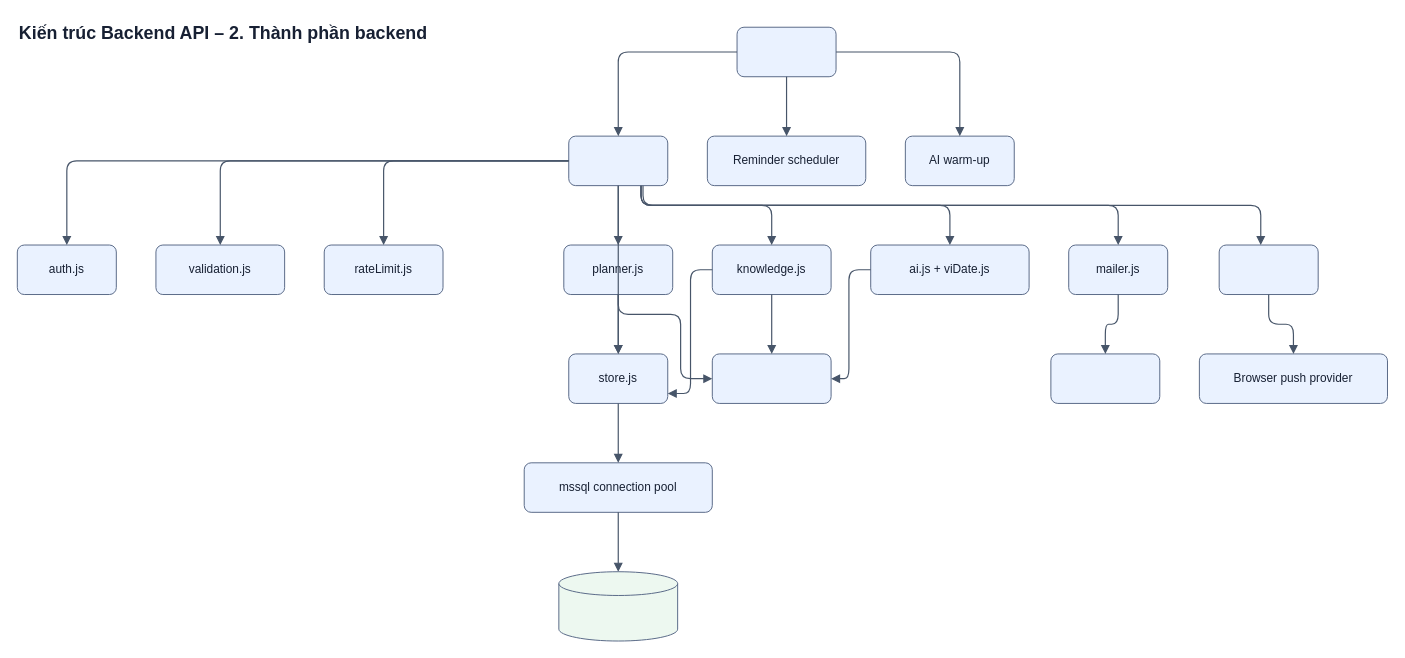
The diagram is 1405 pixels wide and 658 high, and some of its shapes have lost their labels. Each missing label, with the centre of its shape:
"app.js" goes at (618,160).
"Ollama local" goes at (771,378).
"push.js" goes at (1268,269).
"server.js" goes at (786,51).
"SMTP server" goes at (1105,378).
"SQL Server" goes at (618,606).
